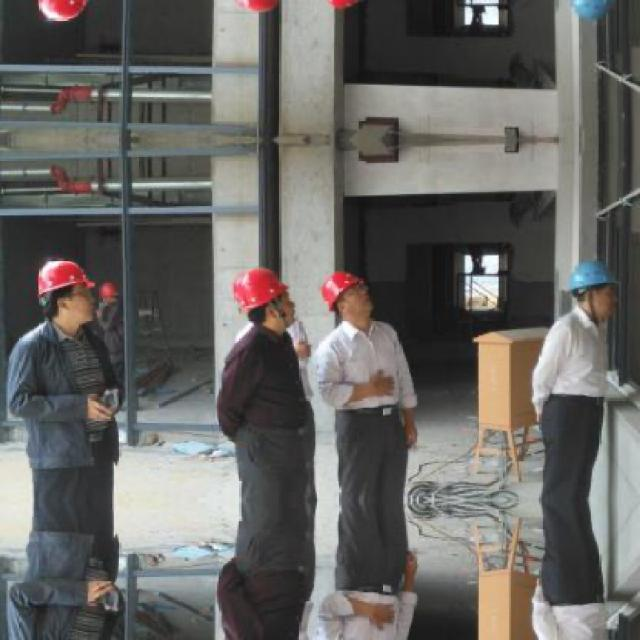con casco: (216, 264, 291, 340), (556, 252, 626, 322), (321, 256, 386, 323), (37, 266, 95, 327)
